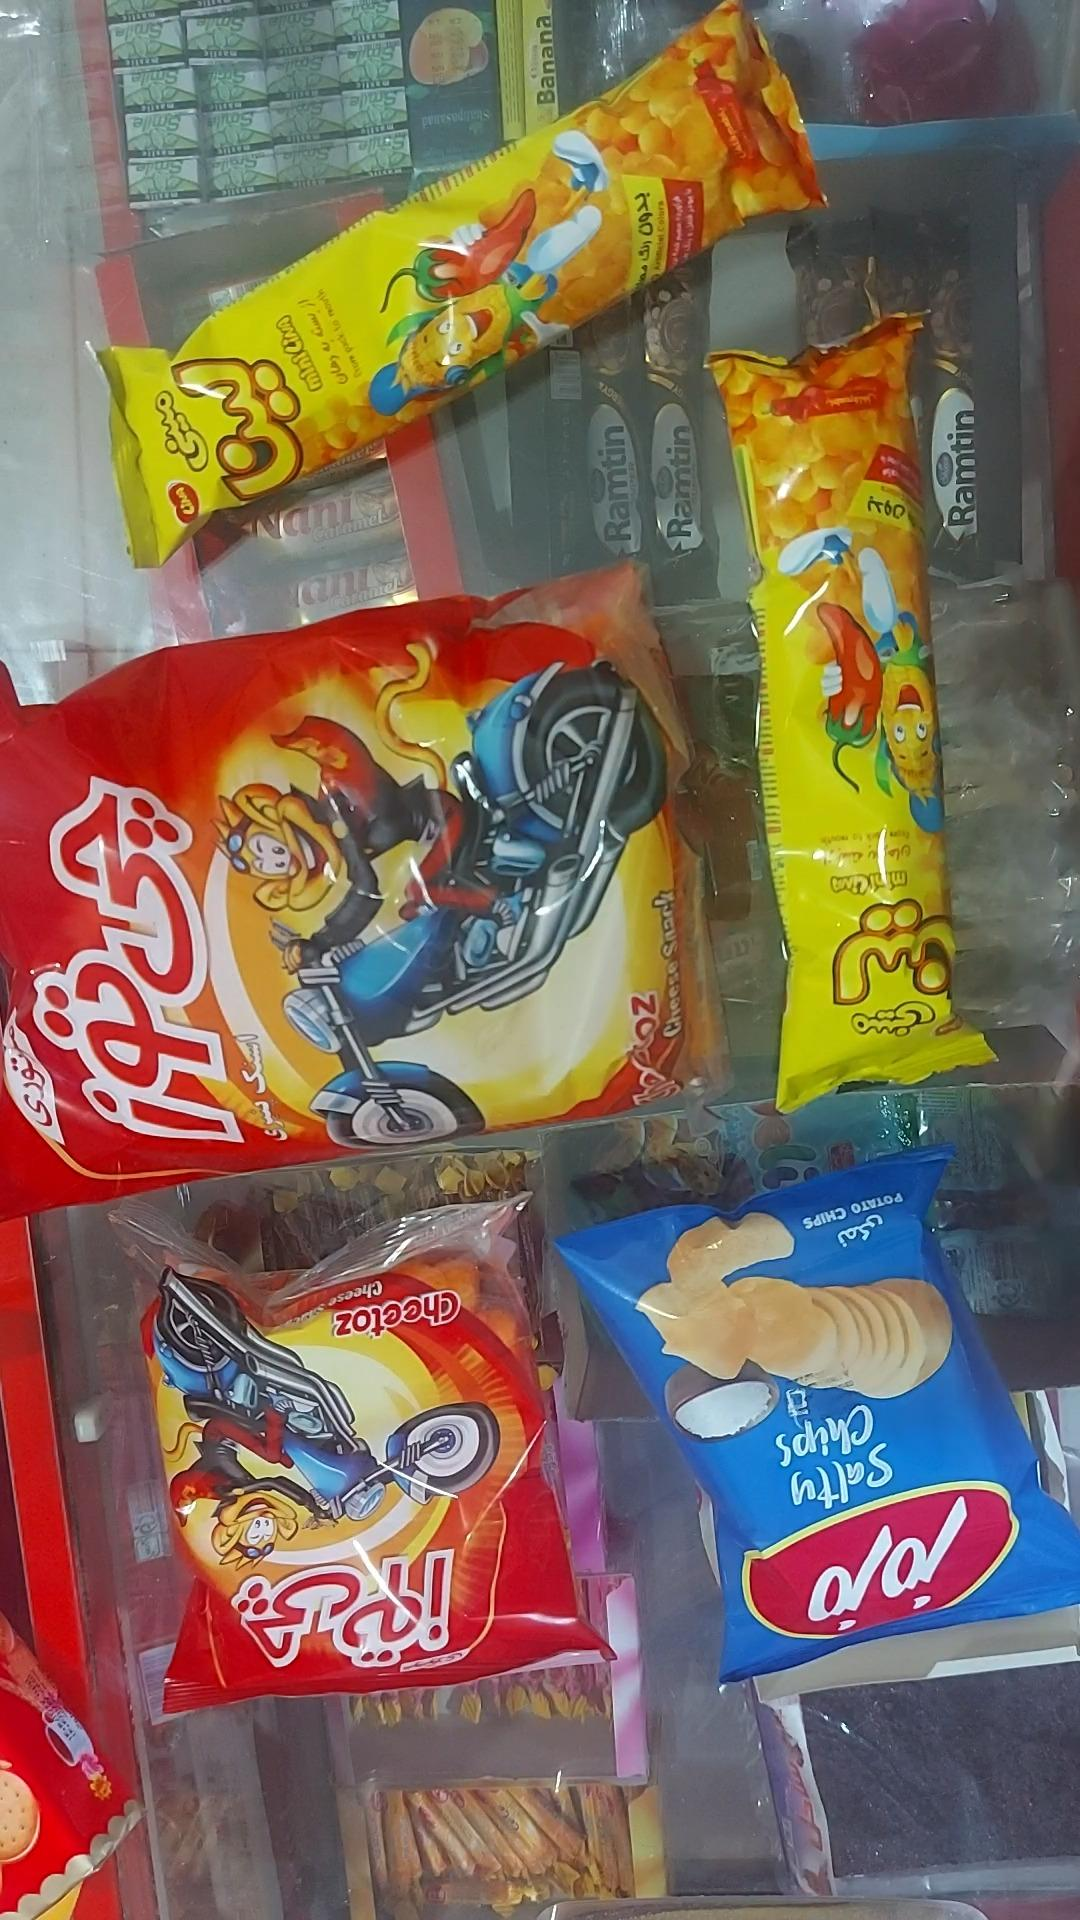Cheetoz snack 30g: (117, 1197, 568, 1713)
Cheetoz snack 90g: (0, 562, 721, 1220)
Maz Maz salty chips: (556, 1149, 1079, 1697)
Mini Lina: (94, 0, 829, 570), (709, 315, 993, 1112)
